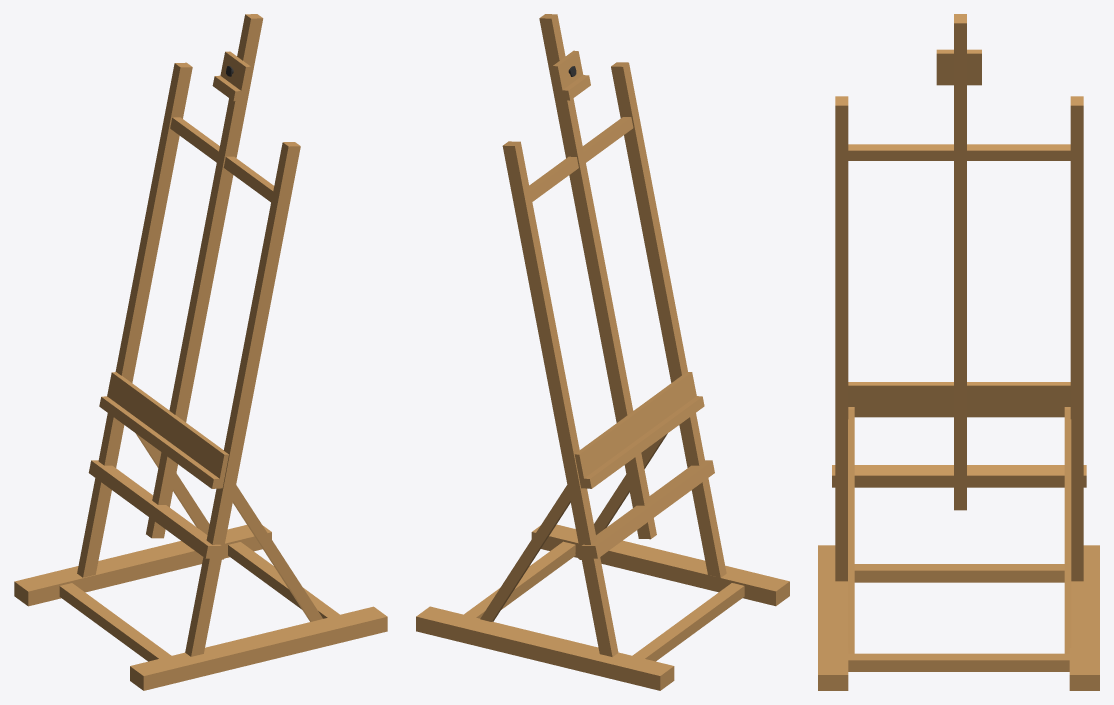
File: ProEasel.fbx
3 renders of one model, left to right at view 1: azimuth 30°, elevation 25°; view 2: azimuth 150°, elevation 25°; view 3: azimuth 270°, elevation 25°, orthographic. The views are drawn at different scales.
Visible parts, largest first — view 1: Cube; view 2: Cube; view 3: Cube.
Part boxes in pixels (<box>): Cube: <box>14,14,387,690</box>; Cube: <box>416,14,789,690</box>; Cube: <box>818,14,1099,690</box>.
Size of the model in its own units: 156 by 359 by 144.
